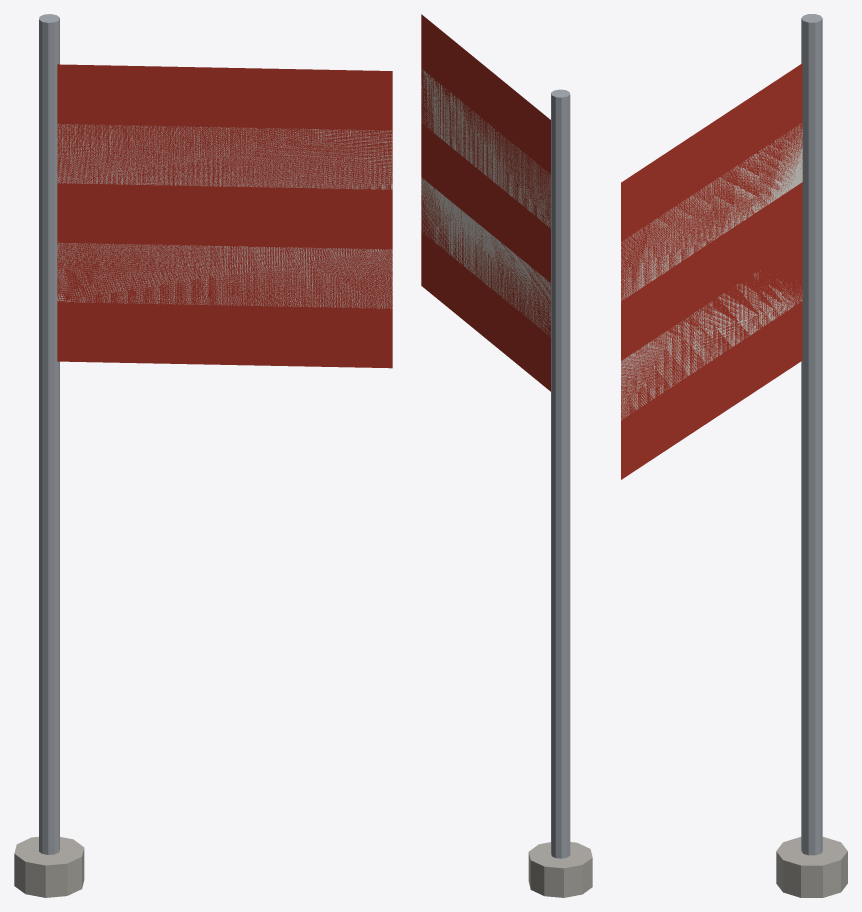
Rendered from PRP_Flag.fbx.
3 renders of one model, left to right at view 1: azimuth 30°, elevation 25°; view 2: azimuth 150°, elevation 25°; view 3: azimuth 270°, elevation 25°, orthographic. The views are drawn at different scales.
Parts seen in each view (by area): view 1: PRP_Flag__BODY; view 2: PRP_Flag__BODY; view 3: PRP_Flag__BODY.
Boxes of the visible parts, x1=… form: PRP_Flag__BODY: x1=14, y1=14, x2=392, y2=897; PRP_Flag__BODY: x1=421, y1=14, x2=592, y2=897; PRP_Flag__BODY: x1=621, y1=14, x2=847, y2=897.
Size of the model in its own units: 2.69 by 8 by 1.9.
